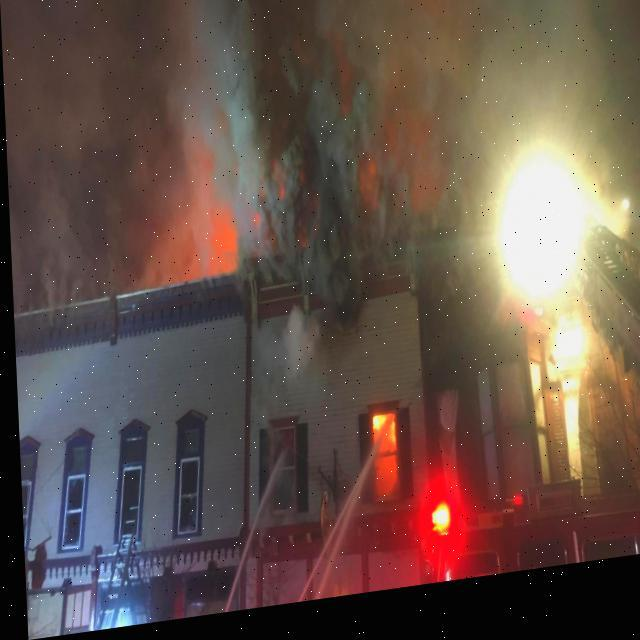Fire: (368, 423, 383, 444), (387, 430, 392, 452)
